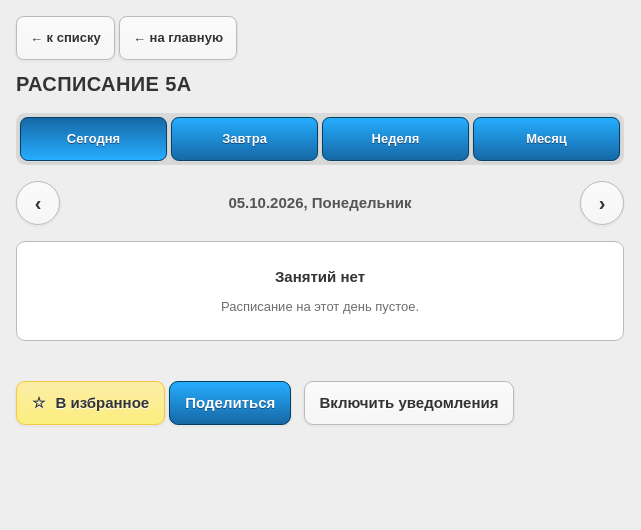
it: Schedule screen › copies a W16-identical share link to the clipboard
This screenshot has width=641, height=530.
// Wait until the server today is loaded so the link can pin the date.
Click the button "Поделиться" at [230, 403], box [169,381,291,425]
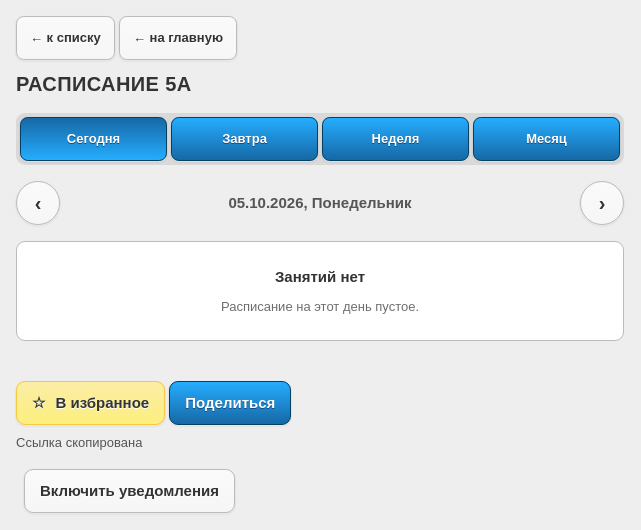
Now the text "Ссылка скопирована" is shown, box [16,435,142,450]
